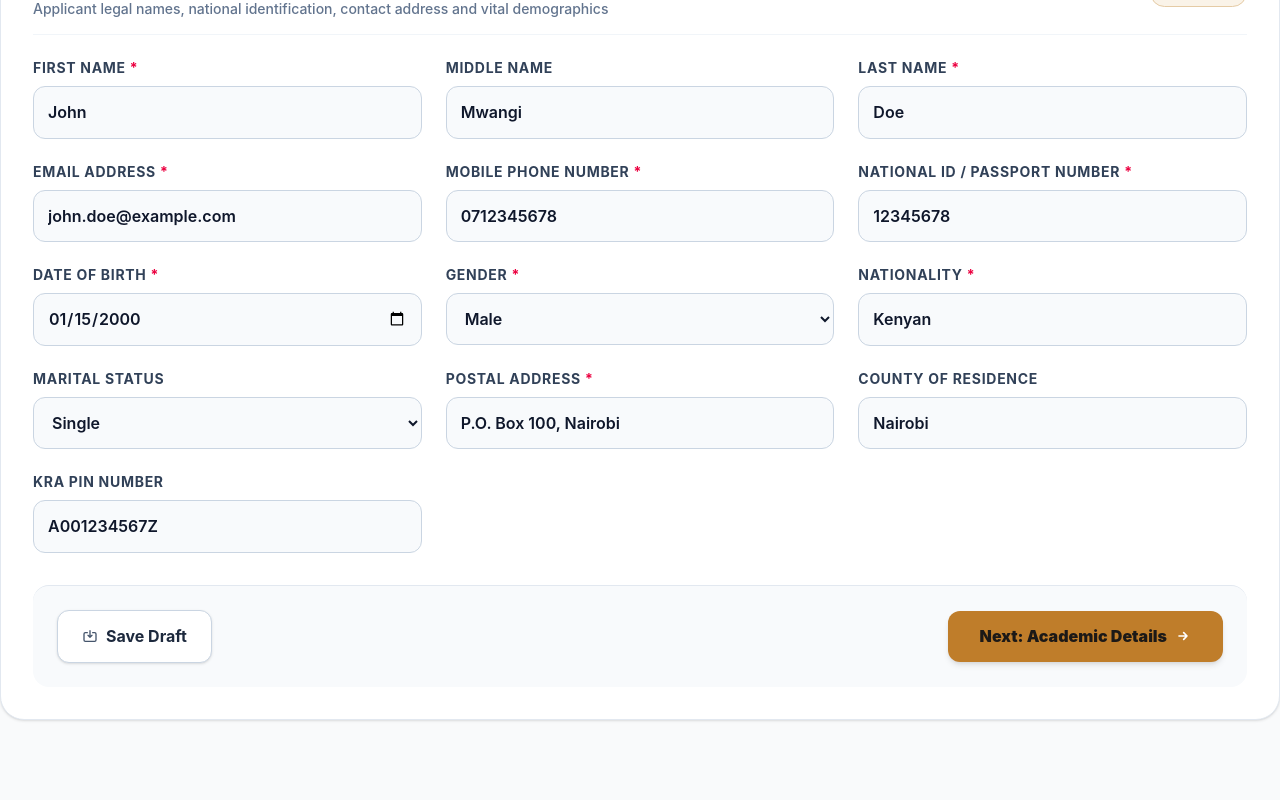
Test: Profile 4-Step Biodata Wizard Component › Academic Standing / Grade Award removal › does not render the removed field anywhere in Step 2
(page scrolled)
Expected: the field showing "John" below "First Name" is shown, 33,86 -> 422,139
Click the button "Next: Academic Details" at point(1085, 636), box 948,611 -> 1223,662
(page scrolled)
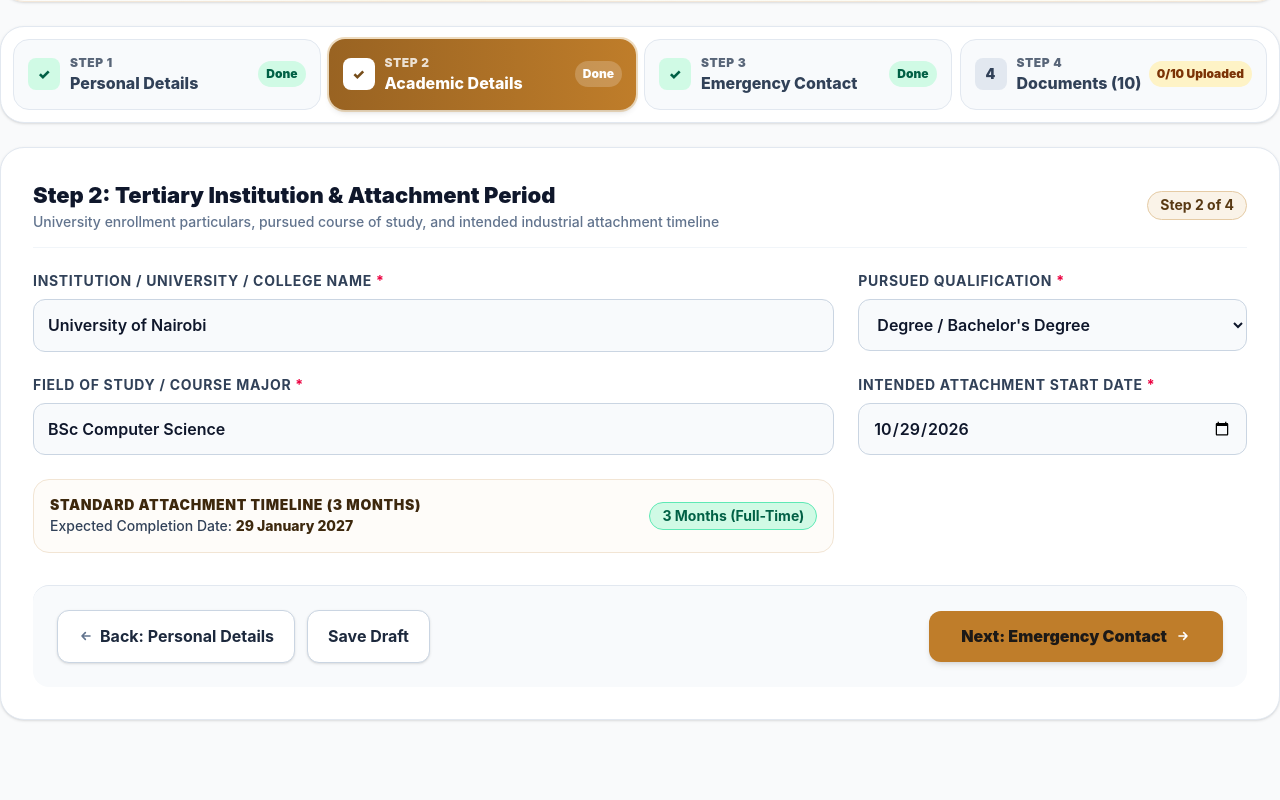
Result: the field showing "University of Nairobi" below "Institution / University / College Name" is shown at 33,299 -> 834,352
Result: the field showing "BSc Computer Science" below "Field of Study / Course Major" is shown at 33,402 -> 834,455
